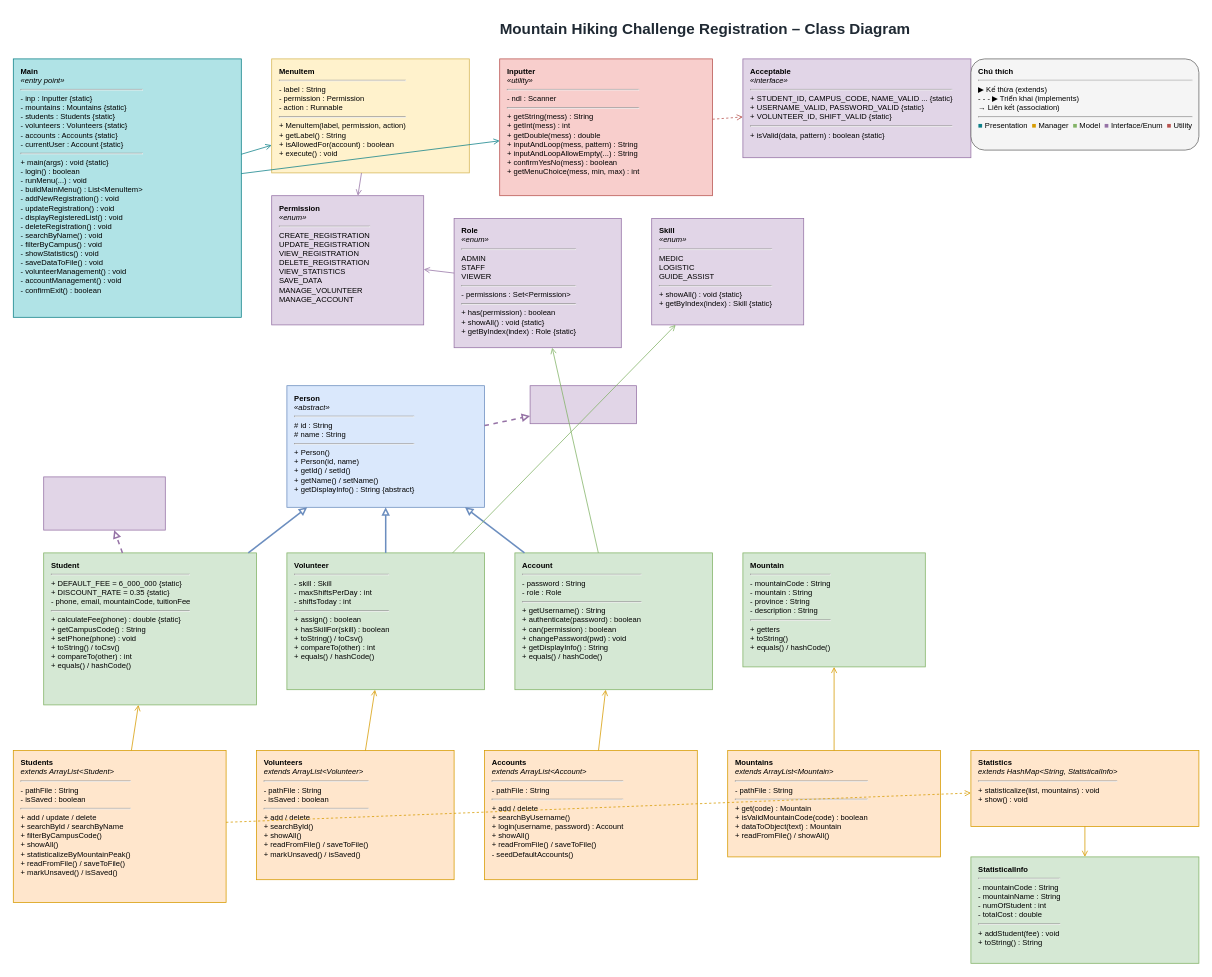
This 1212x977 diagram has some shape labels left out. The shapes that lost their labels are listed below. From the top down, each one's box as (x1, y1, x2, y2) in pixels, then its label:
(529, 385, 636, 424): Serializable «interface»
(43, 476, 165, 530): Comparable<T> «interface» + compareTo(T) : int
